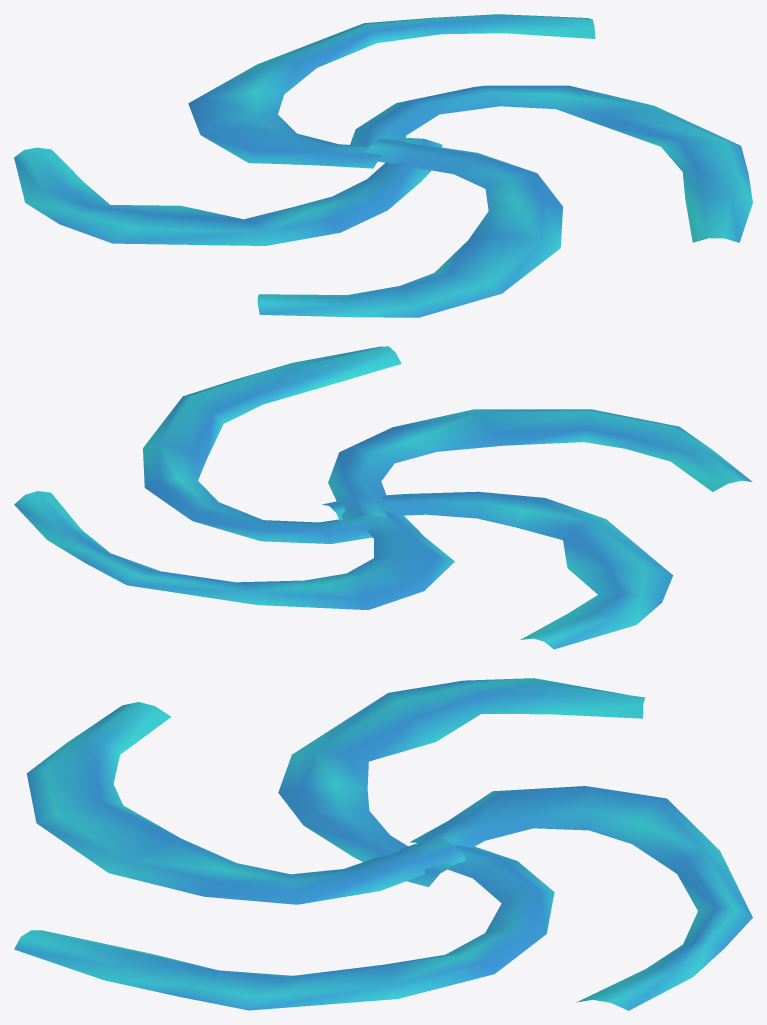
Rendered from space-galaxies-spiral-galaxy_v16.glb.
The picture shows the model from 3 angles, top to bottom: view 1: azimuth 30°, elevation 25°; view 2: azimuth 150°, elevation 25°; view 3: azimuth 270°, elevation 25°; orthographic projection. The views are drawn at different scales.
Parts seen in each view (by area): view 1: Spiral Galaxy_v16; view 2: Spiral Galaxy_v16; view 3: Spiral Galaxy_v16.
Boxes of the visible parts, bbox=[...] form: Spiral Galaxy_v16: bbox=[14, 14, 752, 317]; Spiral Galaxy_v16: bbox=[14, 346, 752, 649]; Spiral Galaxy_v16: bbox=[14, 678, 752, 1010].
Size of the model in its own units: 0.5 by 0.0105 by 0.4575.
